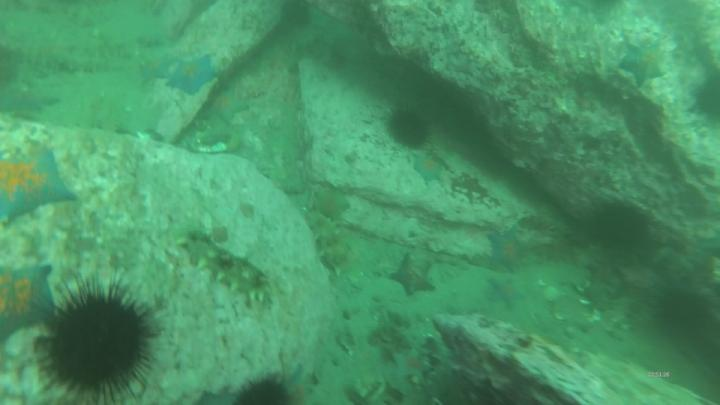echinus: (28, 275, 164, 405), (589, 200, 653, 262), (656, 290, 714, 343), (383, 105, 434, 154), (235, 375, 300, 405), (693, 73, 720, 124), (277, 1, 315, 29)
holothurian: (179, 233, 273, 308), (307, 213, 352, 275)
starfish: (1, 145, 82, 228), (1, 260, 57, 350), (617, 37, 670, 90), (387, 250, 440, 300), (163, 54, 224, 94), (200, 85, 253, 125), (486, 224, 532, 270), (310, 183, 353, 222), (483, 275, 526, 313), (136, 52, 182, 86), (410, 152, 449, 185)
